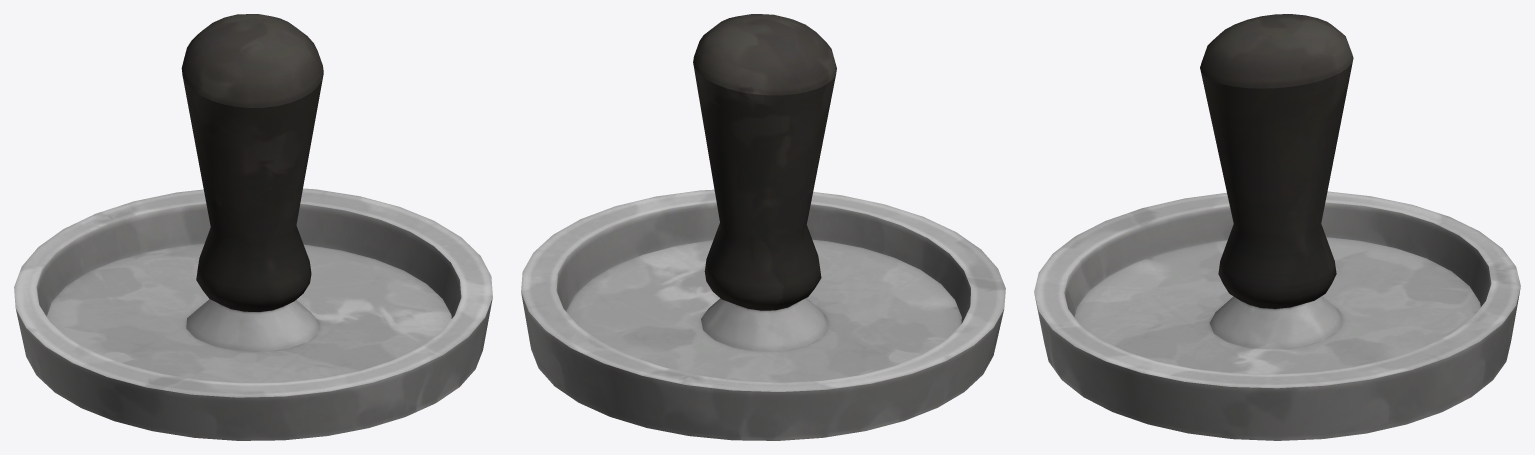
Rendered from SM_BurgerPressTop.glb.
The picture shows the model from 3 angles, left to right: view 1: azimuth 30°, elevation 25°; view 2: azimuth 150°, elevation 25°; view 3: azimuth 270°, elevation 25°; orthographic projection.
Visible parts, largest first — view 1: SM_BurgerPressTop; view 2: SM_BurgerPressTop; view 3: SM_BurgerPressTop.
Part boxes in pixels (x1=…): SM_BurgerPressTop: x1=14, y1=14, x2=492, y2=440; SM_BurgerPressTop: x1=521, y1=14, x2=1005, y2=440; SM_BurgerPressTop: x1=1034, y1=14, x2=1520, y2=440.
Size of the model in its own units: 0.1864 by 0.1424 by 0.1858.
Materials: 1 (1 with a texture image).
